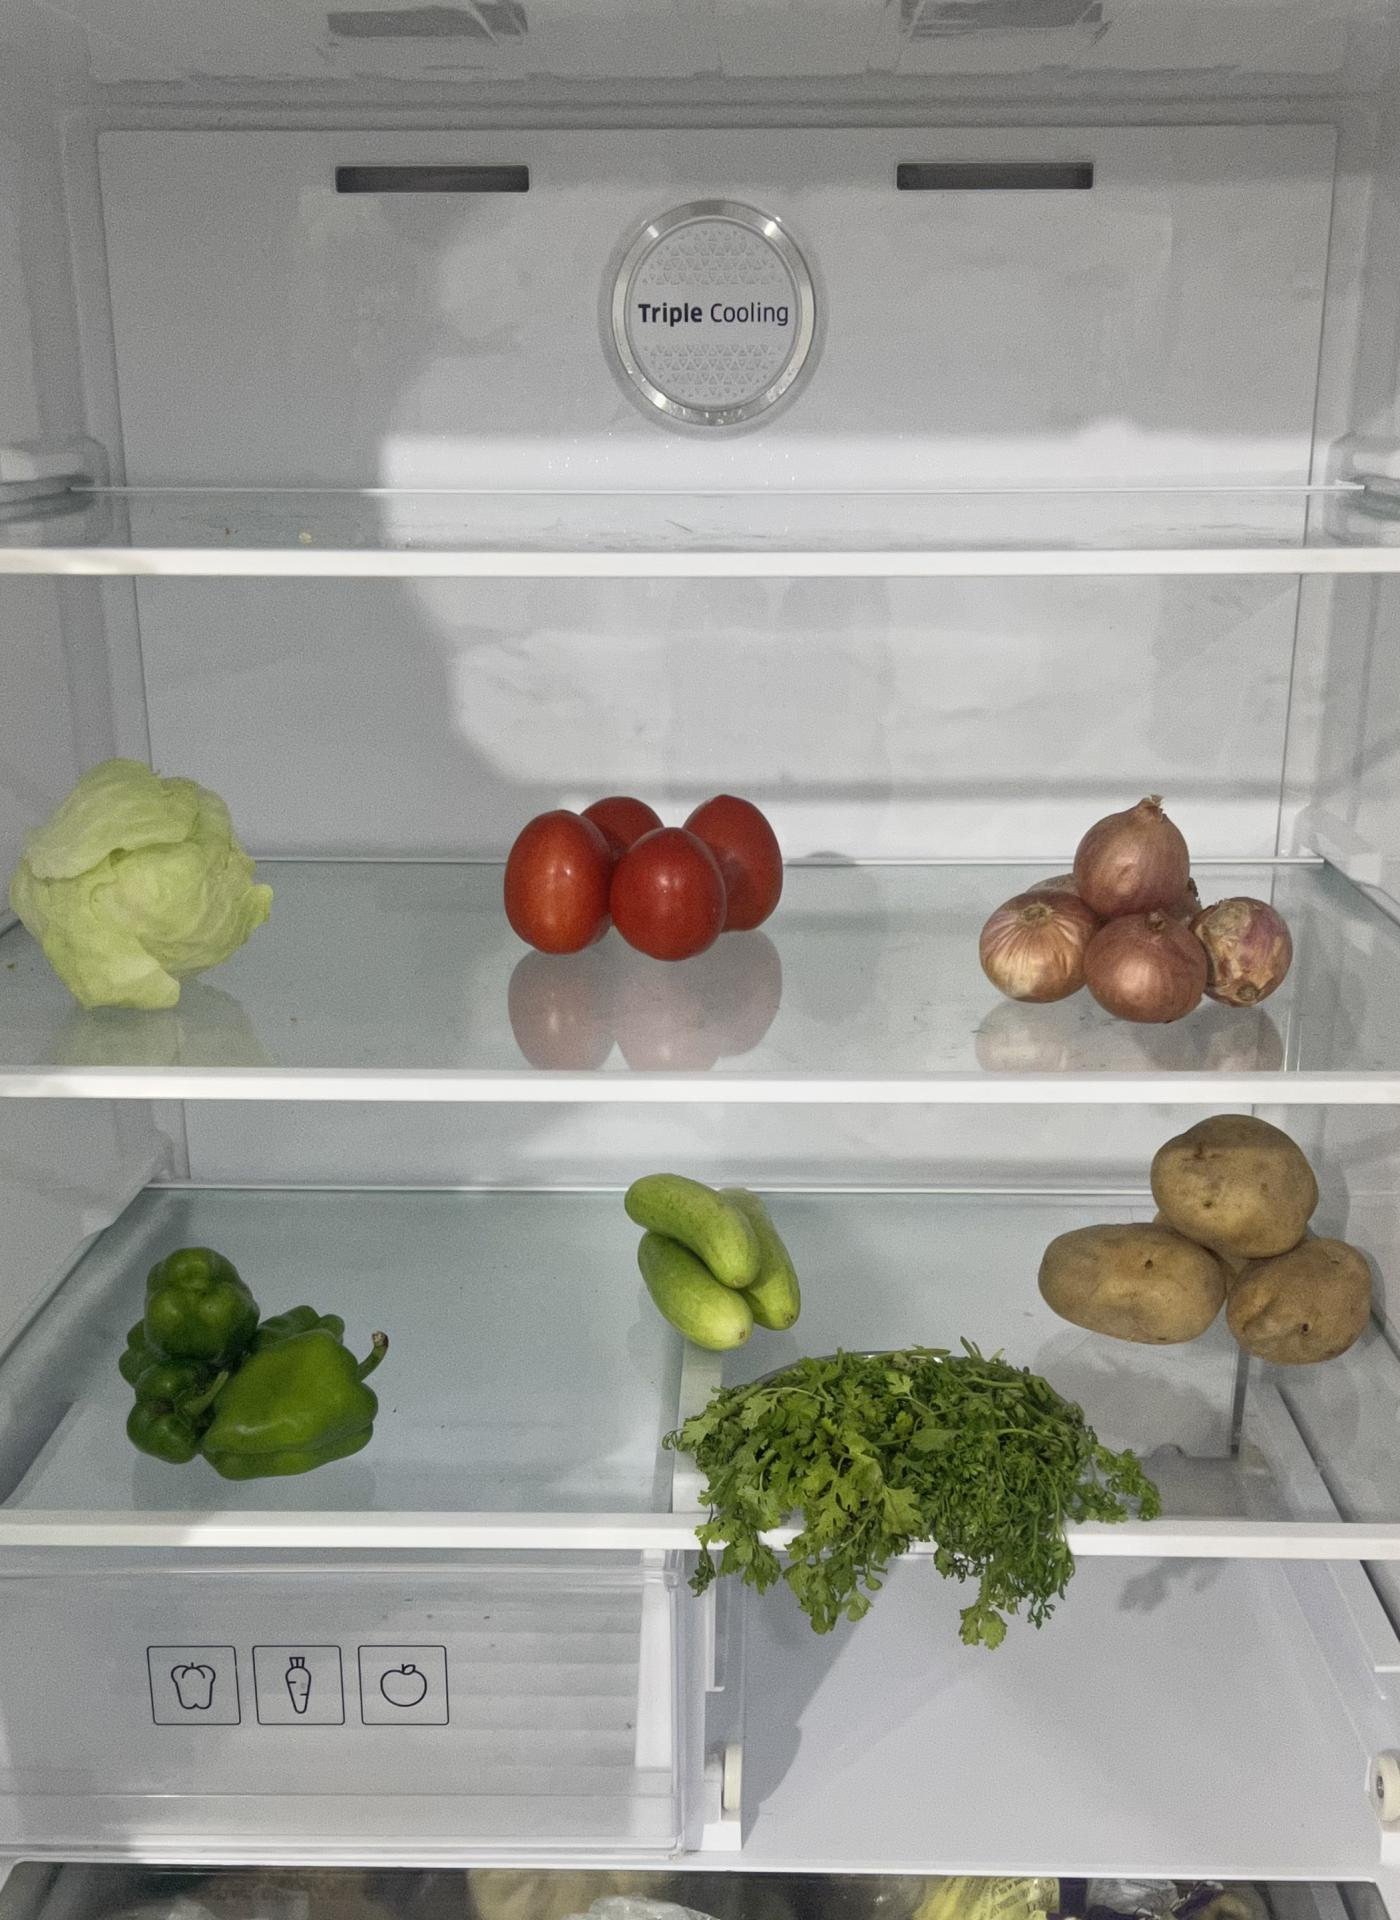cabbage: (13, 760, 276, 1011)
capsicum: (95, 1213, 392, 1476)
coriander: (680, 1352, 1144, 1613)
cucumber: (628, 1170, 801, 1348)
onion: (986, 790, 1302, 1015)
potato: (1036, 1117, 1376, 1370)
tomato: (505, 792, 789, 961)
